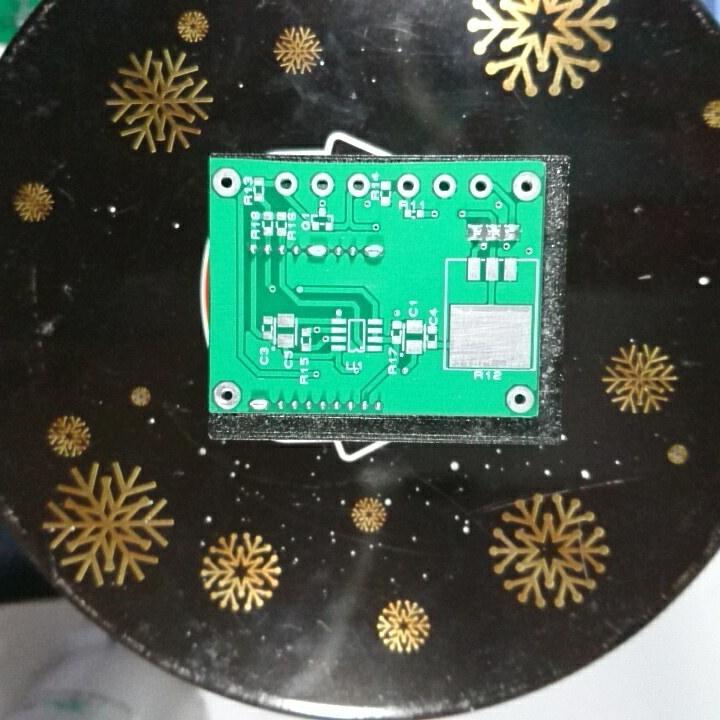F: (211, 378, 245, 411), (510, 168, 542, 202), (211, 165, 242, 200), (504, 383, 537, 413), (271, 169, 301, 198), (308, 169, 337, 198), (430, 172, 459, 201), (394, 171, 422, 199), (466, 172, 493, 200), (345, 172, 371, 198)
P: (304, 240, 331, 262), (360, 239, 385, 261), (248, 396, 273, 412)
